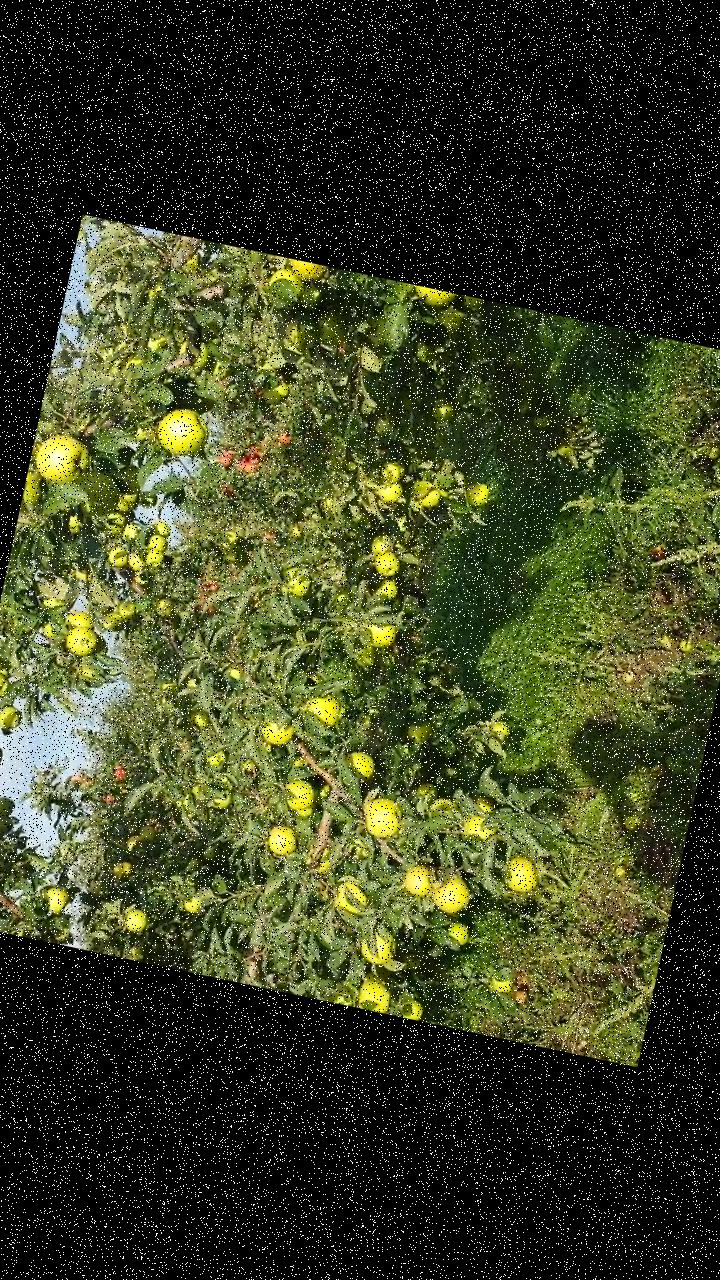Apple: (32, 431, 93, 486), (154, 404, 214, 458), (70, 469, 122, 518), (360, 795, 404, 838), (431, 871, 472, 914), (332, 873, 373, 914), (358, 925, 399, 966), (284, 312, 324, 352), (501, 852, 541, 892), (304, 689, 343, 729), (18, 472, 48, 520), (174, 335, 214, 371), (312, 309, 348, 346), (356, 980, 393, 1014), (64, 624, 98, 658), (281, 778, 315, 811), (342, 750, 375, 783), (278, 566, 312, 598), (265, 824, 299, 856), (401, 864, 435, 896), (363, 311, 393, 347), (268, 266, 306, 293), (286, 259, 328, 283), (360, 620, 396, 648), (413, 286, 458, 308), (96, 509, 129, 538), (378, 455, 408, 485), (261, 718, 294, 745), (264, 376, 290, 408), (314, 842, 338, 876), (435, 306, 462, 334), (46, 911, 72, 940), (180, 243, 202, 277), (408, 716, 434, 744), (63, 610, 93, 634), (42, 888, 68, 914), (372, 550, 398, 576), (464, 482, 490, 508), (61, 509, 86, 536), (370, 532, 397, 557), (378, 478, 404, 503), (118, 520, 142, 547), (373, 410, 395, 439), (210, 785, 234, 811), (447, 922, 471, 948), (373, 578, 398, 602), (432, 398, 457, 422), (0, 706, 23, 732), (125, 908, 149, 932), (353, 643, 376, 668), (300, 287, 322, 313), (462, 814, 484, 840), (430, 796, 458, 816), (114, 491, 138, 514), (418, 486, 442, 509), (122, 351, 148, 372), (145, 332, 168, 355), (454, 294, 483, 312), (108, 543, 130, 566), (72, 562, 96, 583), (399, 999, 423, 1020), (204, 746, 226, 768), (490, 974, 513, 995), (192, 706, 212, 730), (146, 280, 165, 304), (221, 528, 241, 550), (127, 552, 148, 572), (142, 548, 163, 568), (90, 633, 108, 656), (42, 618, 60, 640), (221, 544, 240, 564), (119, 600, 136, 622), (199, 842, 218, 861), (0, 796, 15, 820), (184, 892, 202, 912), (103, 613, 124, 630), (126, 834, 143, 854), (290, 753, 310, 770), (489, 719, 510, 735), (419, 781, 437, 799), (406, 952, 424, 970), (314, 782, 330, 802), (156, 599, 174, 616), (146, 535, 165, 551), (151, 524, 170, 540), (0, 671, 10, 699), (296, 802, 314, 817), (477, 798, 496, 812), (0, 815, 12, 837), (332, 993, 352, 1006), (290, 522, 304, 540), (115, 862, 130, 878), (142, 826, 158, 839), (82, 666, 98, 677), (229, 669, 241, 680), (0, 744, 5, 767), (0, 655, 5, 674)
